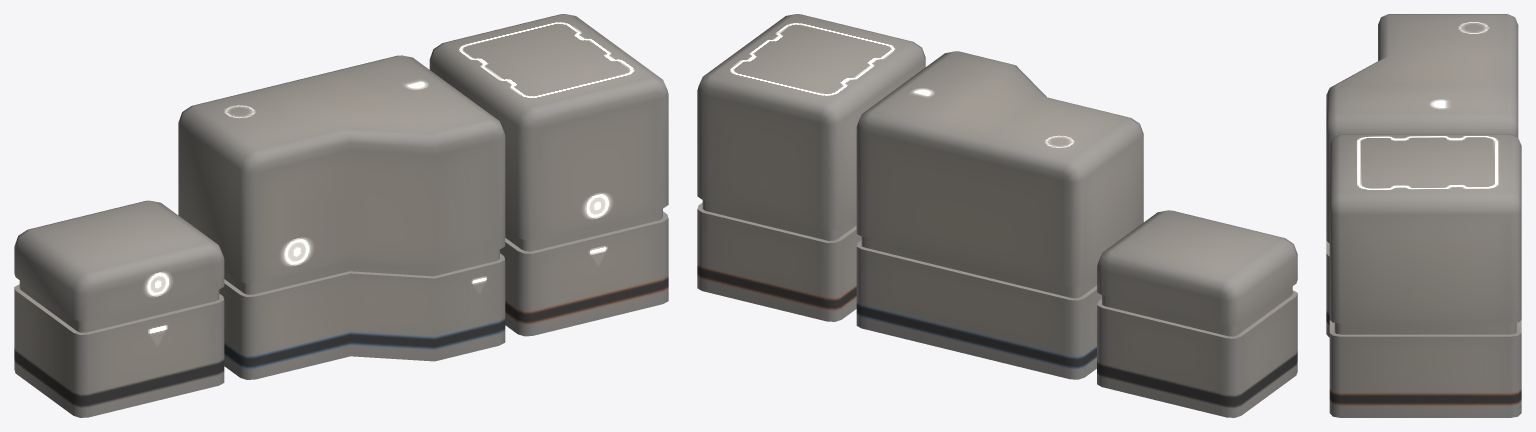
Rendered from futuristic_scifi_style_small_tableboxes.glb.
The picture shows the model from 3 angles, left to right: view 1: azimuth 30°, elevation 25°; view 2: azimuth 150°, elevation 25°; view 3: azimuth 270°, elevation 25°; orthographic projection. The views are drawn at different scales.
Parts seen in each view (by area): view 1: SM_Side_tables.001, SM_Side_tables.002, SM_Side_tables.003; view 2: SM_Side_tables.001, SM_Side_tables.002, SM_Side_tables.003; view 3: SM_Side_tables.002, SM_Side_tables.001.
Part boxes in pixels (x1,y1,x2,y2): SM_Side_tables.001: [178, 55, 505, 379]; SM_Side_tables.002: [429, 14, 668, 336]; SM_Side_tables.003: [14, 200, 224, 417]; SM_Side_tables.001: [856, 51, 1143, 379]; SM_Side_tables.002: [697, 14, 925, 321]; SM_Side_tables.003: [1097, 210, 1297, 417]; SM_Side_tables.002: [1329, 134, 1521, 417]; SM_Side_tables.001: [1326, 14, 1518, 337].
Bounding box in the file's own units: 1.45 × 0.5464 × 0.4417.
1 material, 1 textured.
